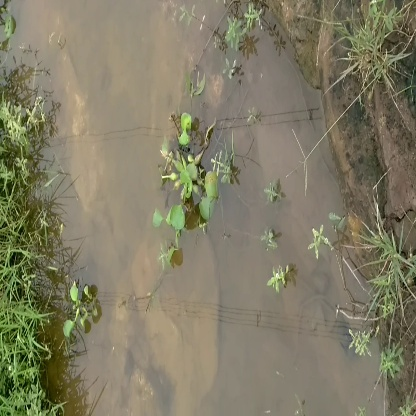leaf: (162, 147, 216, 196)
